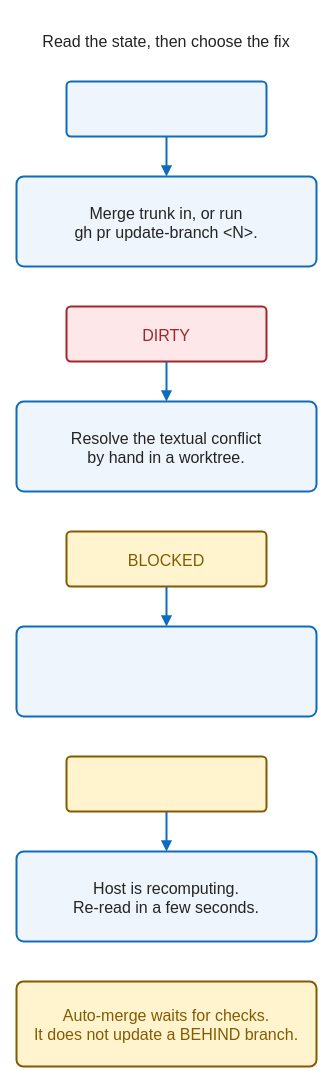
The diagram is 333 pixels wide and 1083 high, and some of its shapes have lost their labels. Each missing label, with the centre of its shape:
"BEHIND" goes at point (166, 108).
"Inspect failures and reviews. No failures + pending checks: wait." goes at point (166, 671).
"UNKNOWN" goes at point (166, 783).
